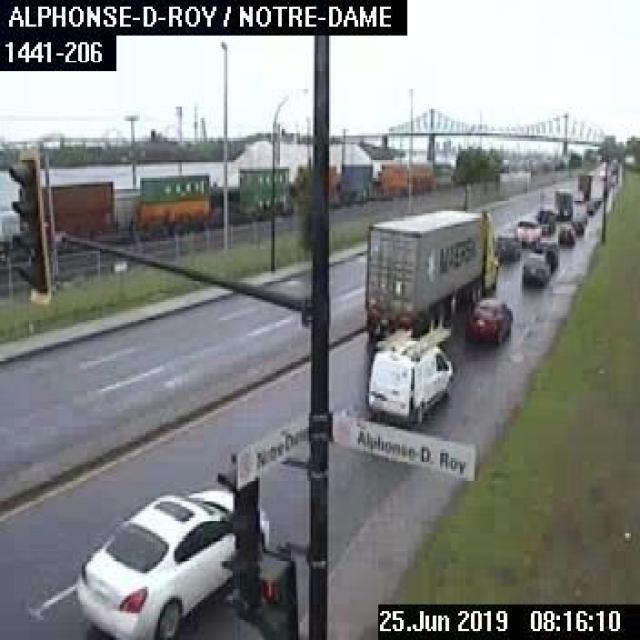vehicle: (69, 480, 272, 638), (359, 204, 501, 320), (362, 319, 466, 431), (468, 293, 514, 343), (518, 249, 548, 293), (514, 212, 543, 249), (555, 222, 577, 249)
